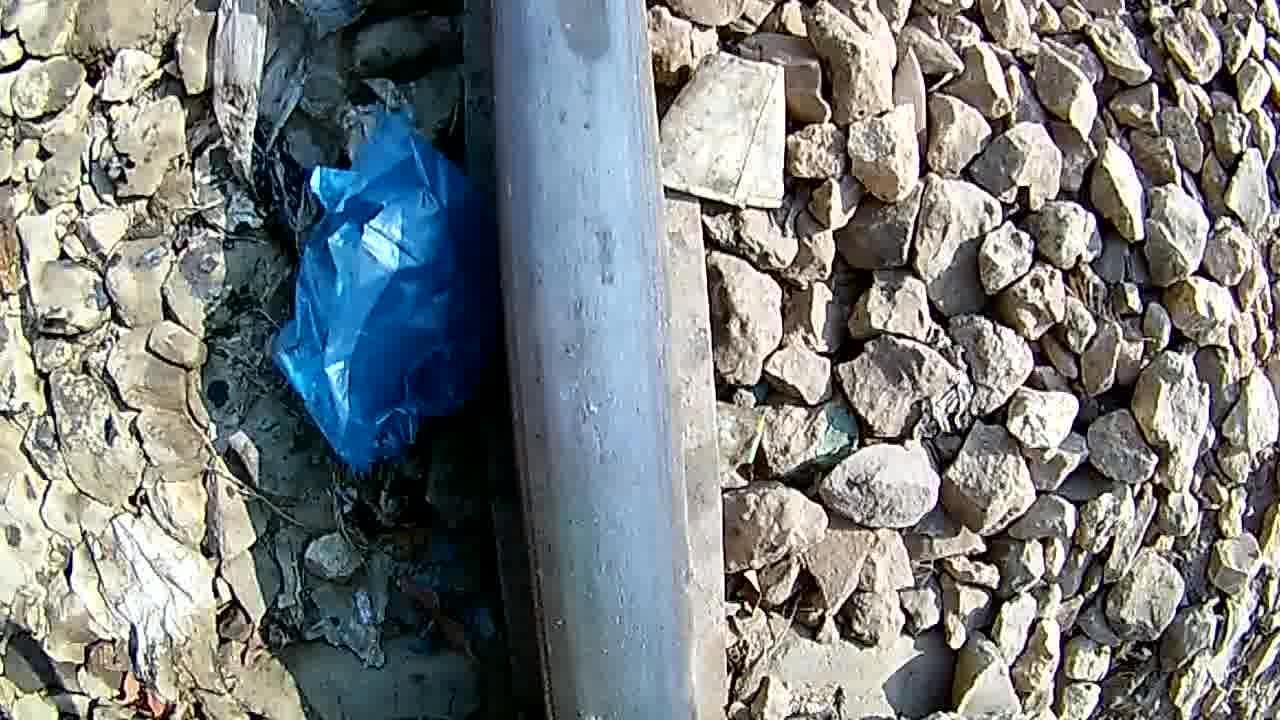crack: (510, 0, 670, 327)
